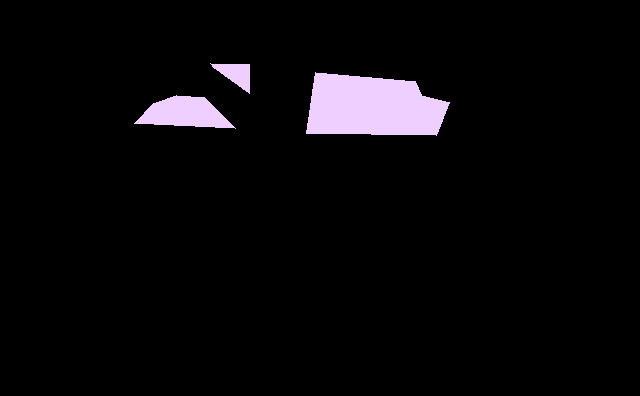Train: (134, 63, 450, 135)
